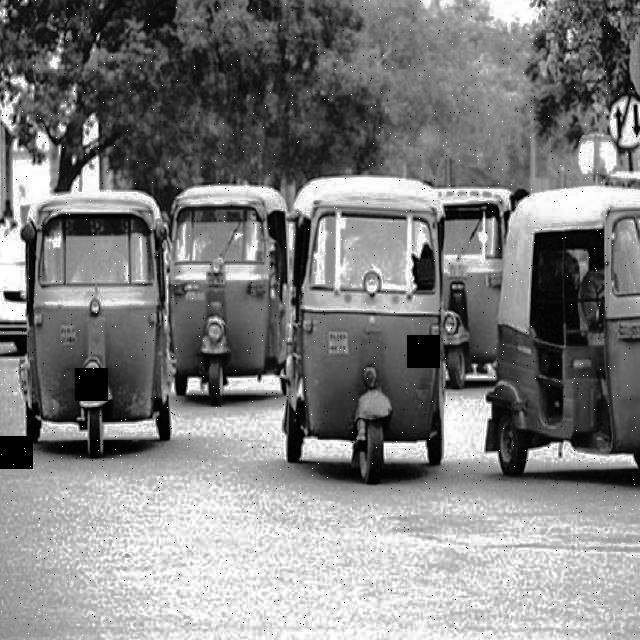Auto-Rickshaw: (281, 173, 448, 489), (487, 183, 640, 475), (18, 183, 177, 457), (166, 175, 290, 405), (417, 182, 521, 404)
